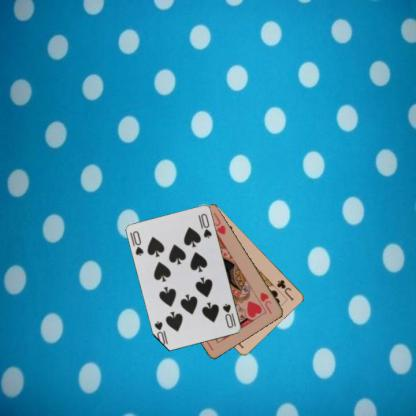10s: (220, 301, 238, 329), (131, 228, 145, 257)
Jc: (274, 276, 296, 301)
Jh: (258, 290, 274, 316)
